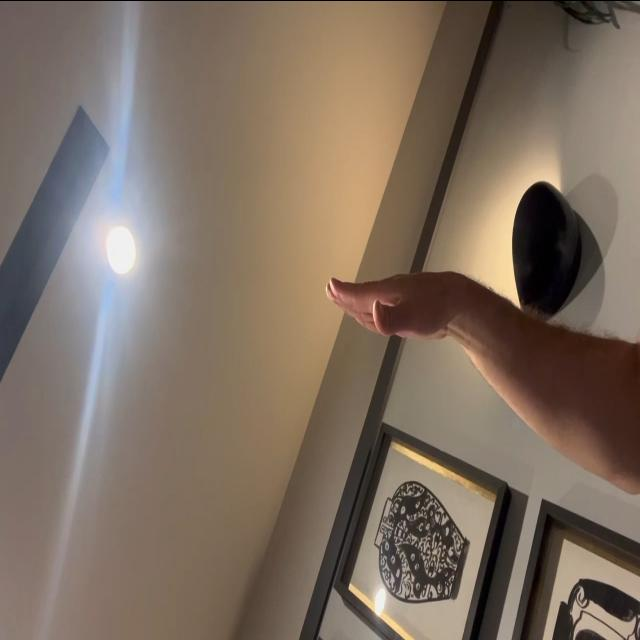Paper: (324, 263, 459, 350)
